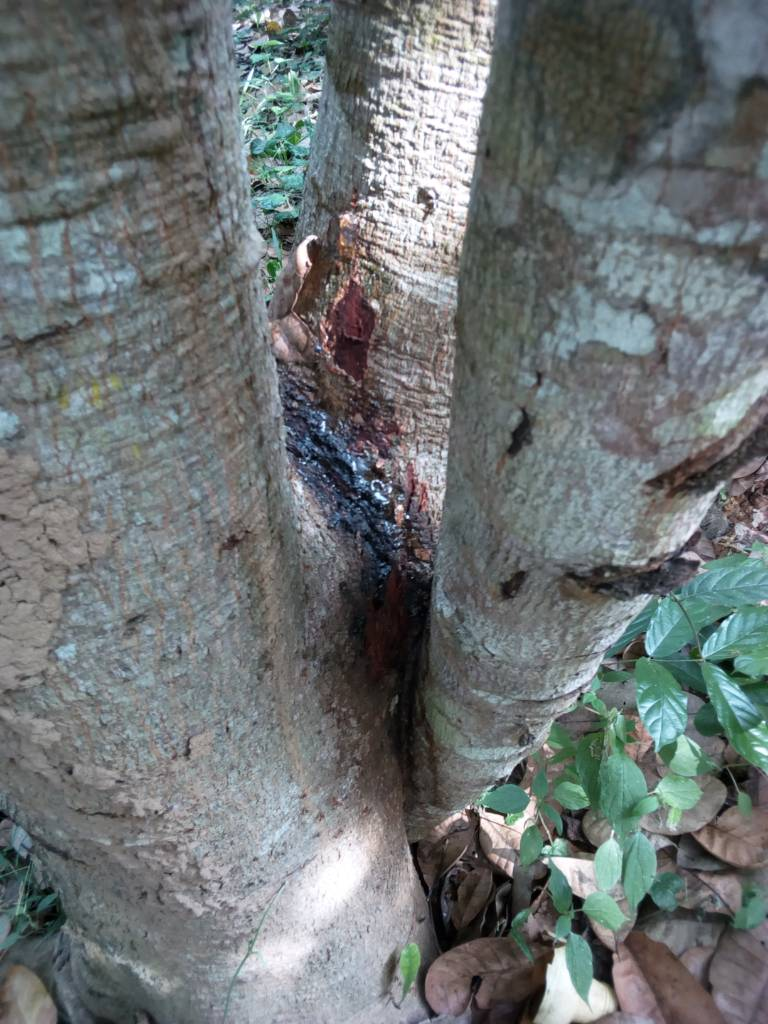Gommose: (288, 377, 444, 700)
